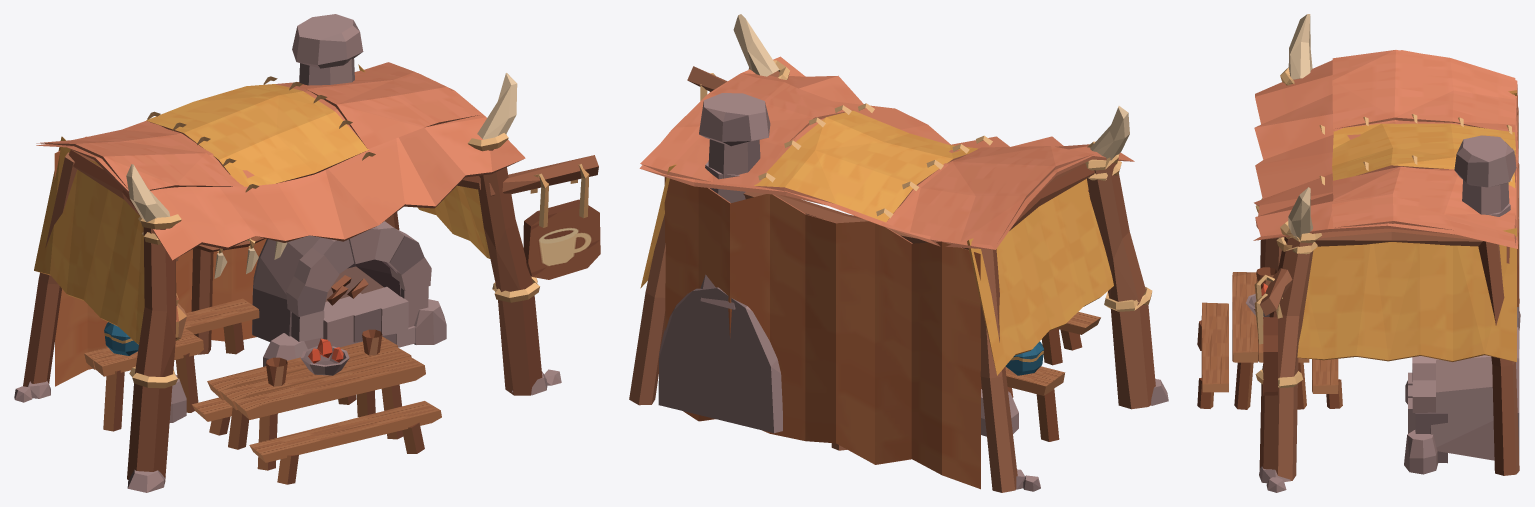
The model's file is Prehistoric_Hide_Canopy_Tavern.glb.
The picture shows the model from 3 angles, left to right: view 1: azimuth 30°, elevation 25°; view 2: azimuth 150°, elevation 25°; view 3: azimuth 270°, elevation 25°; orthographic projection. The views are drawn at different scales.
Visible parts, largest first — view 1: Prehistoric Hide Canopy Tavern; view 2: Prehistoric Hide Canopy Tavern; view 3: Prehistoric Hide Canopy Tavern.
Part boxes in pixels (bbox=[...]): Prehistoric Hide Canopy Tavern: bbox=[14, 14, 600, 492]; Prehistoric Hide Canopy Tavern: bbox=[629, 14, 1168, 492]; Prehistoric Hide Canopy Tavern: bbox=[1197, 14, 1520, 492].
Bounding box in the file's own units: 6.46 × 4.07 × 4.03.
Materials: 2 (2 with a texture image).
